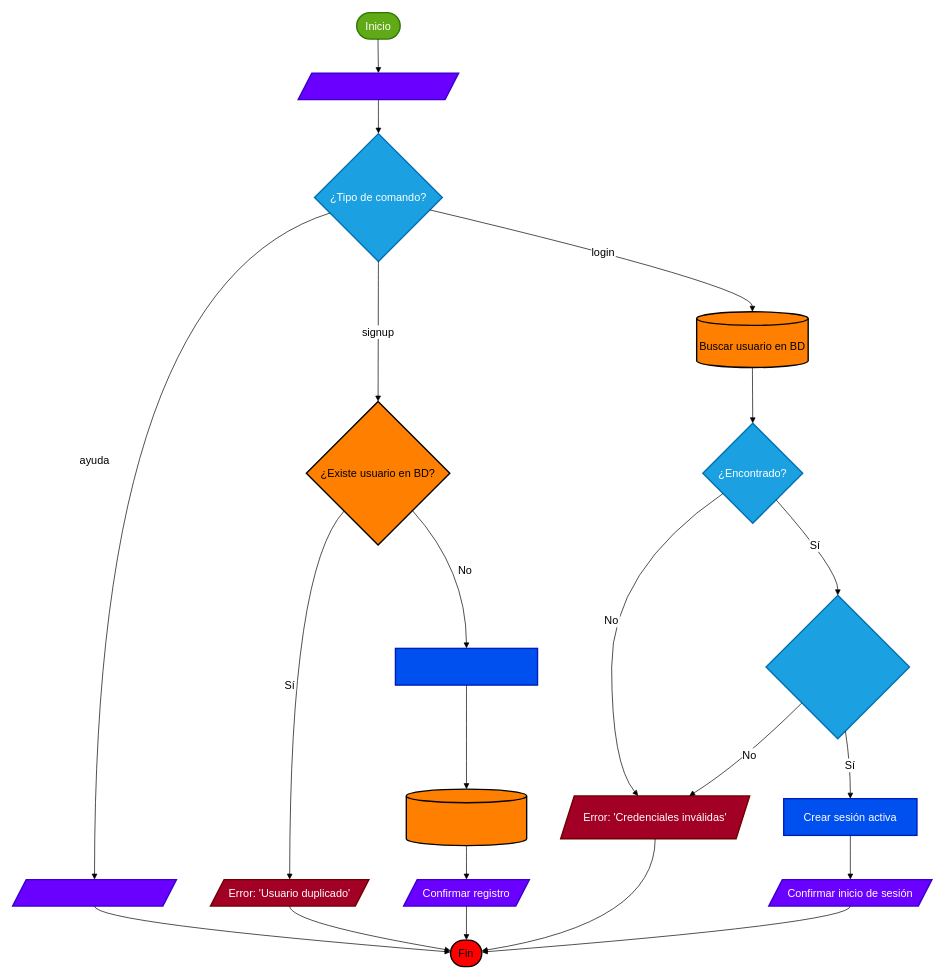
Image size: 944x979. Some labels were removed from this diagram. Each missing label, with the centre of its shape:
"Encriptar contraseña" belongs at (466,666).
"Guardar nuevo usuario" belongs at (466,817).
"Leer comando de consola" belongs at (378,86).
"Mostrar lista de comandos" belongs at (94,892).
"¿Contraseña correcta?" belongs at (837,666).
